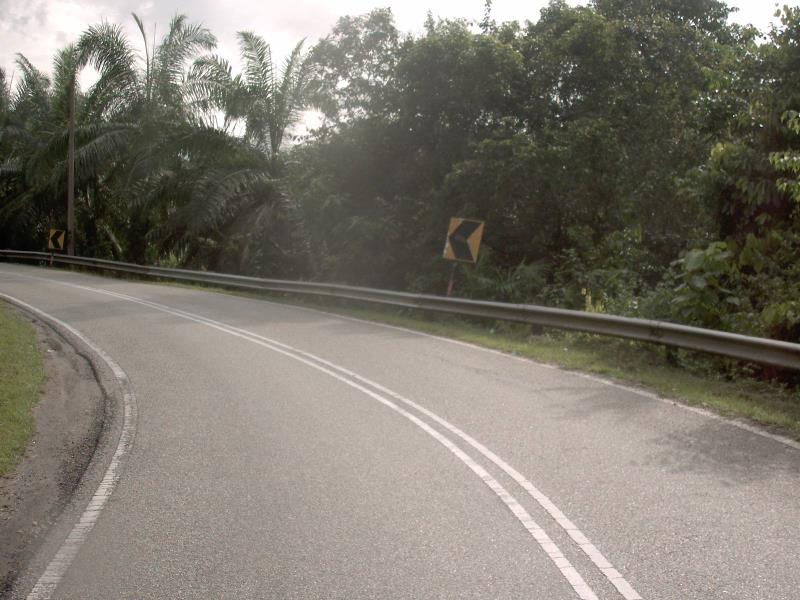traffic_sign: (434, 207, 492, 273)
